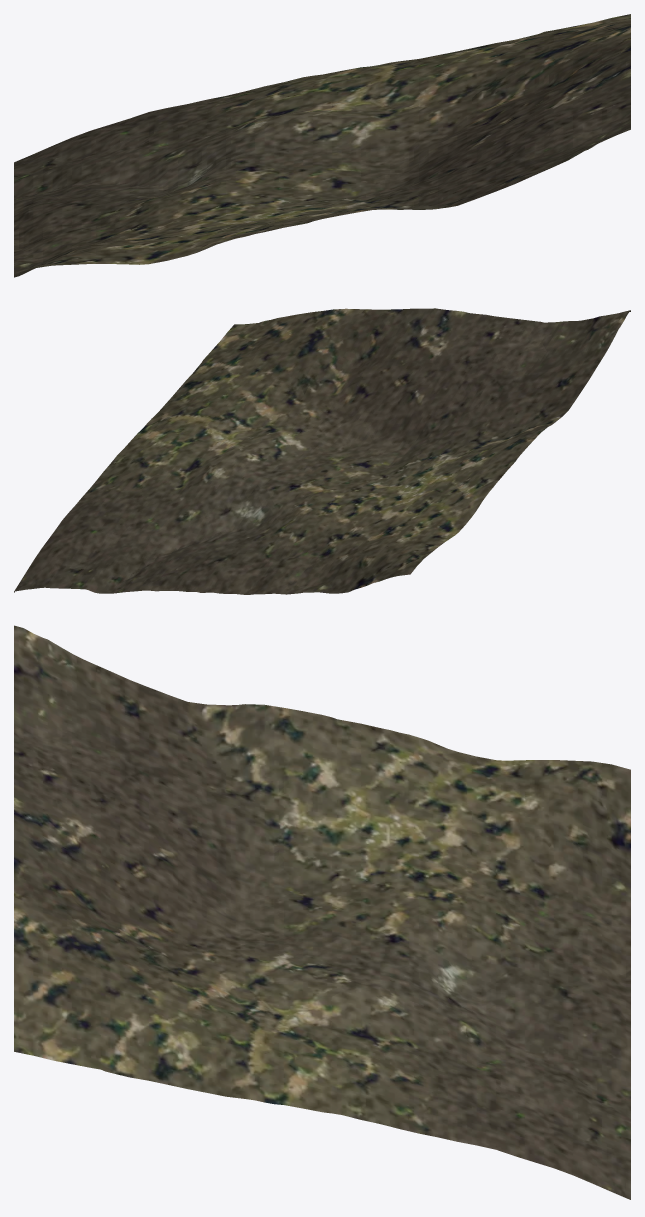
3 renders of one model, top to bottom at view 1: azimuth 90°, elevation 25°; view 2: azimuth 150°, elevation 25°; view 3: azimuth 270°, elevation 25°, orthographic. The views are drawn at different scales.
Bounding box in the file's own units: 250 × 132 × 241.
1 material, 1 textured.
